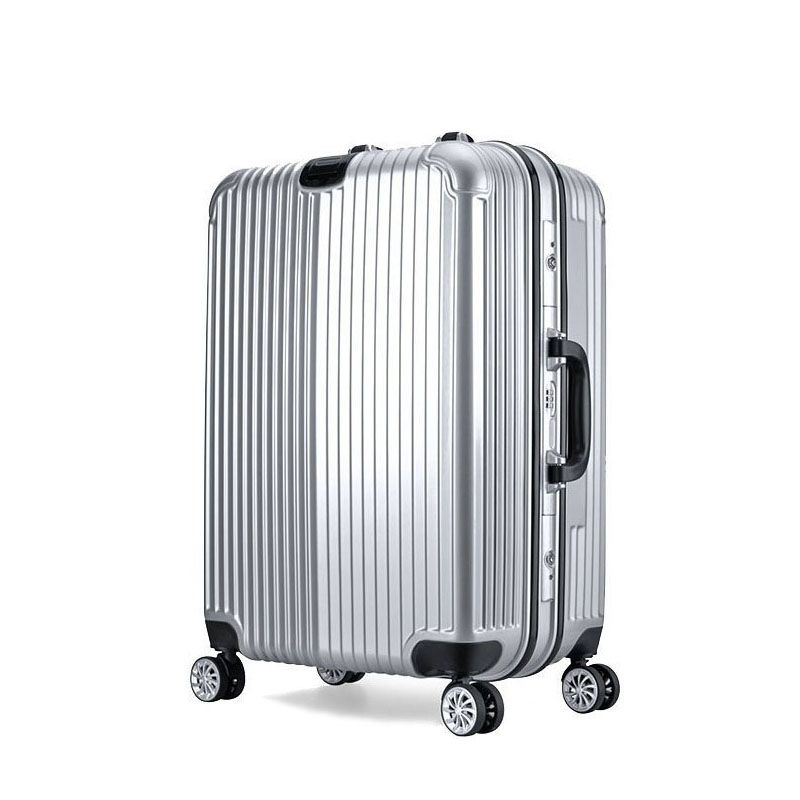luggage: (189, 130, 620, 740)
